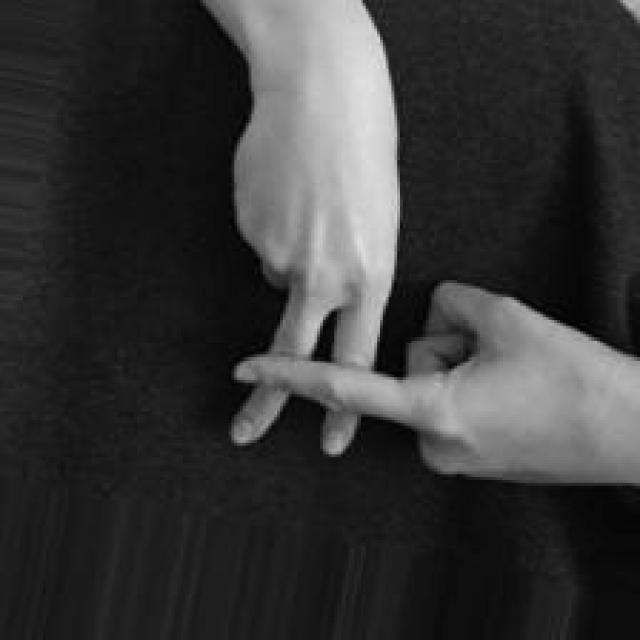A: (223, 80, 640, 483)
